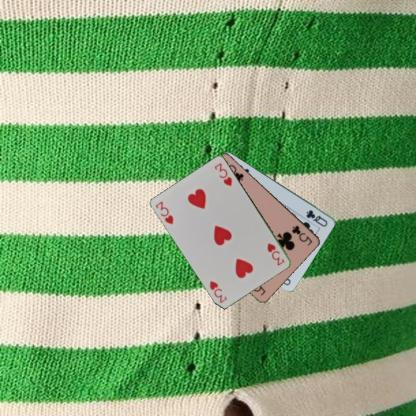3h: (153, 198, 175, 226), (264, 240, 286, 267)
5c: (289, 223, 314, 247)
Qc: (304, 206, 329, 228)
